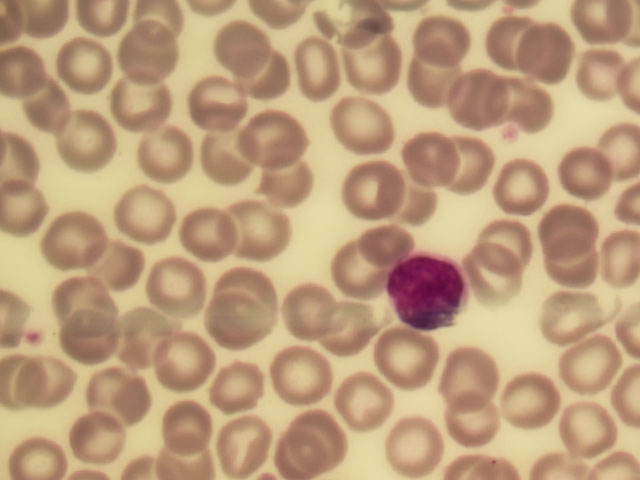RBC: (52, 33, 118, 99), (18, 79, 84, 145), (56, 105, 122, 171), (38, 211, 104, 277), (90, 233, 156, 299), (111, 179, 177, 245), (129, 127, 195, 193), (58, 258, 124, 324), (57, 304, 123, 370), (111, 306, 177, 372), (145, 251, 211, 317), (174, 207, 240, 273), (228, 199, 294, 265), (254, 154, 320, 220), (248, 109, 314, 175), (208, 122, 274, 188), (192, 72, 258, 138), (204, 21, 270, 87), (234, 49, 300, 115), (279, 38, 345, 104), (353, 30, 419, 96), (412, 4, 478, 70), (403, 45, 469, 111), (443, 65, 509, 131), (483, 72, 549, 138), (518, 20, 584, 86), (485, 13, 551, 79), (570, 44, 636, 110), (559, 141, 625, 207), (498, 146, 564, 212), (447, 134, 513, 200), (415, 129, 481, 195), (346, 149, 412, 215), (375, 172, 441, 238), (352, 211, 418, 277), (310, 244, 376, 310), (319, 296, 385, 362), (278, 281, 344, 347), (220, 254, 286, 320), (218, 290, 284, 356), (154, 329, 220, 395), (207, 355, 273, 421), (261, 345, 327, 411), (340, 371, 406, 437), (379, 326, 445, 392), (436, 345, 502, 411), (444, 387, 510, 453), (498, 367, 564, 433), (548, 290, 614, 356), (547, 237, 613, 303), (542, 197, 608, 263), (479, 209, 545, 275), (470, 242, 536, 308), (557, 393, 623, 459), (378, 409, 444, 475), (284, 406, 350, 472), (211, 414, 277, 480), (161, 396, 227, 462), (70, 403, 136, 469), (84, 363, 150, 429), (10, 346, 76, 412), (1, 39, 66, 105), (556, 341, 617, 392), (569, 1, 634, 46)
WBC: (387, 253, 468, 333)
